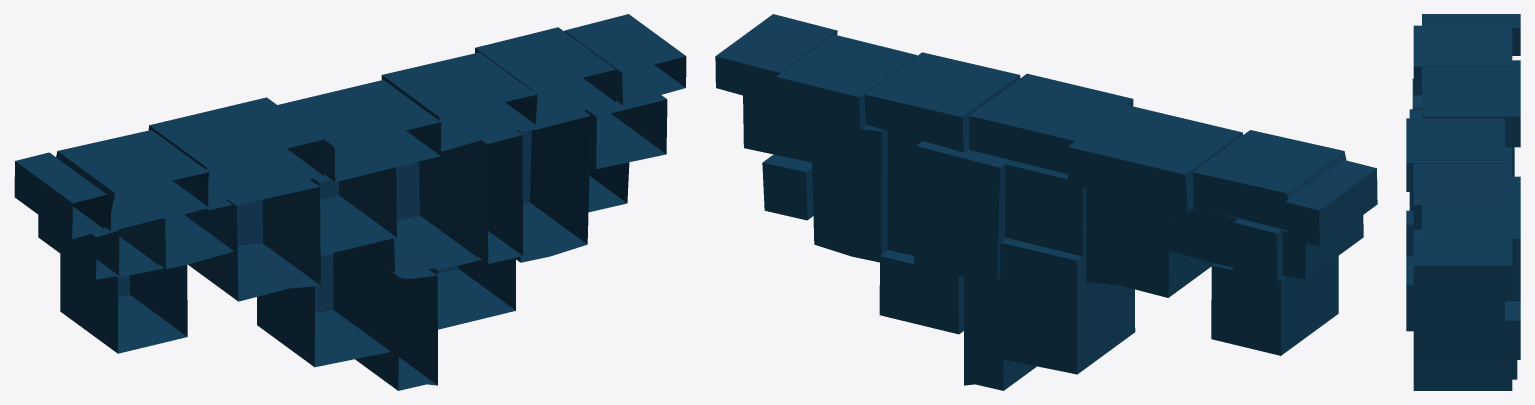
The model's file is Ruins_Platforms.FBX.
The picture shows the model from 3 angles, left to right: view 1: azimuth 30°, elevation 25°; view 2: azimuth 150°, elevation 25°; view 3: azimuth 270°, elevation 25°; orthographic projection. The views are drawn at different scales.
Parts seen in each view (by area): view 1: Platform016, Platform005, Platform017, Platform004, Platform006, Platform012, Platform010, Platform020, Platform003, Platform002, Platform014, Platform001 (+9 smaller); view 2: Platform016, Platform005, Platform012, Platform010, Platform004, Platform003, Platform006, Platform020, Platform017, Platform002, Platform015, Platform001 (+9 smaller); view 3: Platform005, Platform001, Platform004, Platform006, Platform003, Platform008, Platform002, Platform009, Platform013, Platform007, Platform014, Platform010 (+5 smaller).
Boxes of the visible parts, bbox=[...] form: Platform016: bbox=[257, 239, 391, 367]; Platform005: bbox=[148, 97, 324, 203]; Platform017: bbox=[188, 179, 320, 301]; Platform004: bbox=[277, 80, 441, 182]; Platform006: bbox=[56, 130, 209, 231]; Platform012: bbox=[391, 142, 477, 272]; Platform010: bbox=[516, 110, 590, 262]; Platform020: bbox=[60, 254, 187, 353]; Platform003: bbox=[381, 52, 537, 151]; Platform002: bbox=[475, 27, 615, 122]; Platform014: bbox=[355, 269, 437, 390]; Platform001: bbox=[564, 14, 686, 105]; Platform016: bbox=[1000, 238, 1135, 374]; Platform005: bbox=[1067, 104, 1242, 212]; Platform012: bbox=[914, 141, 1010, 280]; Platform010: bbox=[811, 118, 887, 262]; Platform004: bbox=[969, 73, 1133, 174]; Platform003: bbox=[864, 52, 1020, 152]; Platform006: bbox=[1192, 130, 1346, 230]; Platform020: bbox=[1211, 256, 1338, 355]; Platform017: bbox=[1086, 188, 1214, 297]; Platform002: bbox=[776, 34, 916, 130]; Platform015: bbox=[1005, 160, 1086, 256]; Platform001: bbox=[715, 14, 837, 104]; Platform005: bbox=[1422, 67, 1520, 147]; Platform001: bbox=[1413, 239, 1512, 291]; Platform004: bbox=[1406, 118, 1504, 191]; Platform006: bbox=[1413, 25, 1512, 95]; Platform003: bbox=[1413, 163, 1512, 229]; Platform008: bbox=[1406, 255, 1504, 331]; Platform002: bbox=[1422, 204, 1520, 266]; Platform009: bbox=[1422, 301, 1520, 359]; Platform013: bbox=[1419, 360, 1517, 379]; Platform007: bbox=[1422, 14, 1520, 55]; Platform014: bbox=[1413, 364, 1512, 390]; Platform010: bbox=[1413, 229, 1512, 364].
Size of the model in its own units: 719 by 306 by 137.
